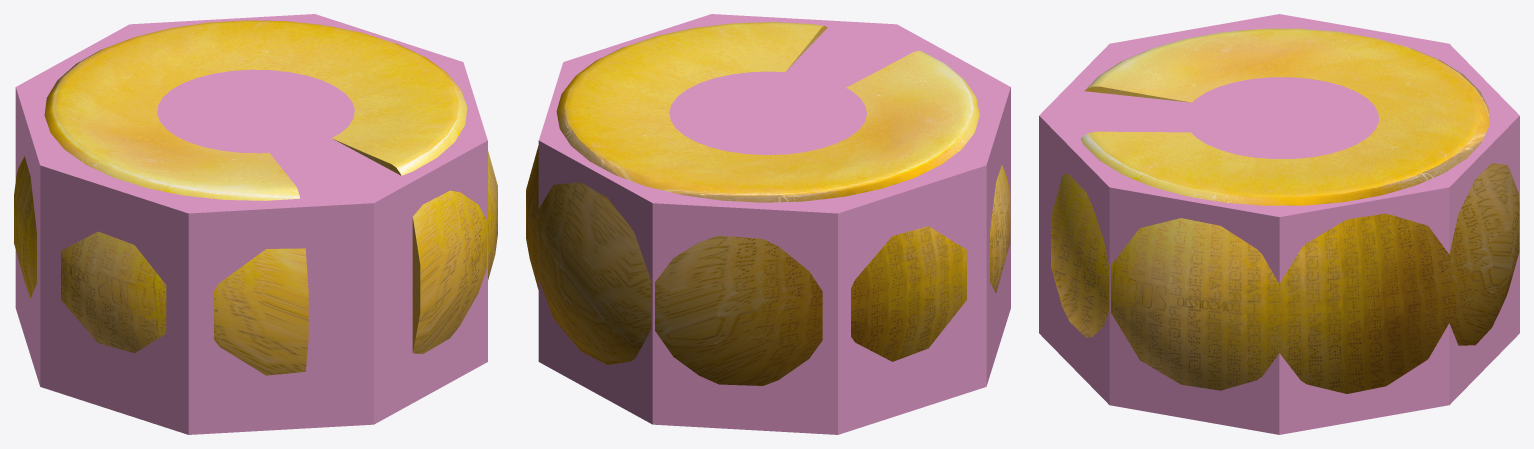
File: cheese2.fbx
3 views of the same model, side by side, from view 1: azimuth 30°, elevation 25°; view 2: azimuth 150°, elevation 25°; view 3: azimuth 270°, elevation 25° (orthographic).
Visible parts, largest first — view 1: UCL_chezbargo1, big_cheese2; view 2: big_cheese2, UCL_chezbargo1; view 3: big_cheese2, UCL_chezbargo1.
Part boxes in pixels (bbox=[...]): UCL_chezbargo1: bbox=[15, 14, 487, 434]; big_cheese2: bbox=[14, 20, 497, 375]; big_cheese2: bbox=[526, 22, 1010, 385]; UCL_chezbargo1: bbox=[538, 14, 1010, 434]; big_cheese2: bbox=[1051, 28, 1519, 393]; UCL_chezbargo1: bbox=[1039, 14, 1519, 434].
Bounding box in the file's own units: 33.79 × 17.28 × 33.58.
